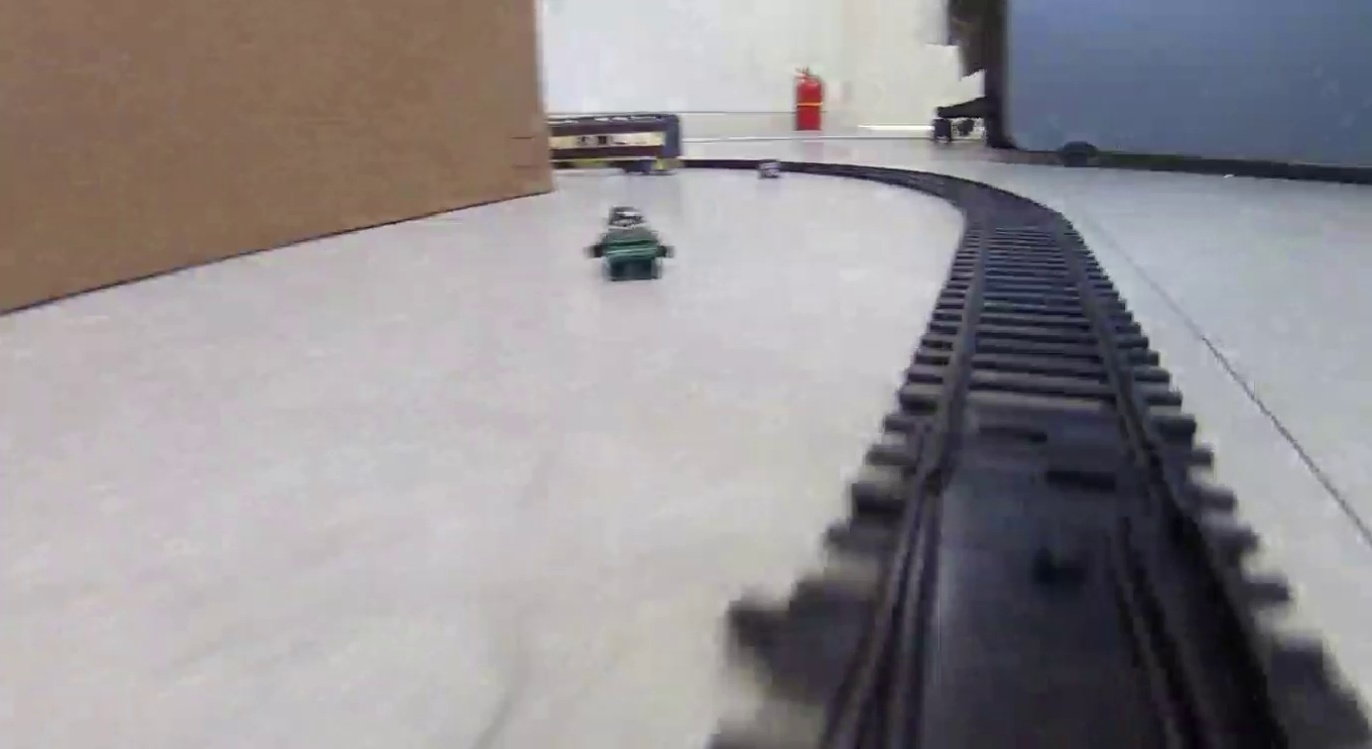people: (584, 204, 675, 280)
